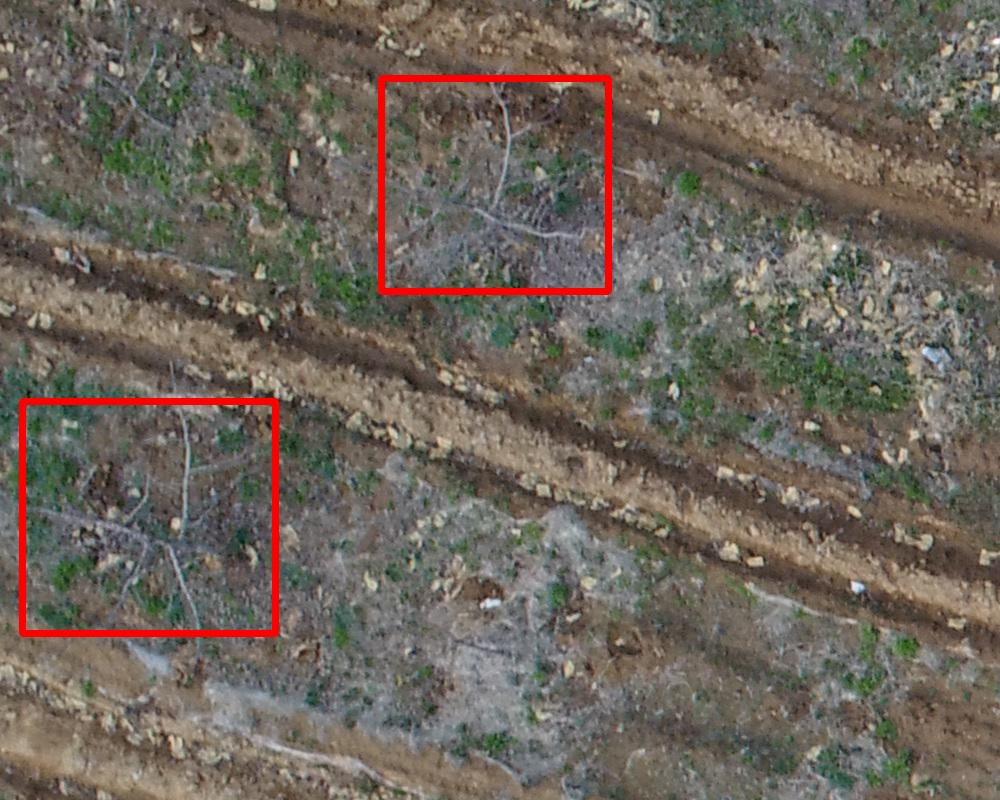apple: (22, 401, 275, 633), (381, 78, 608, 291)
